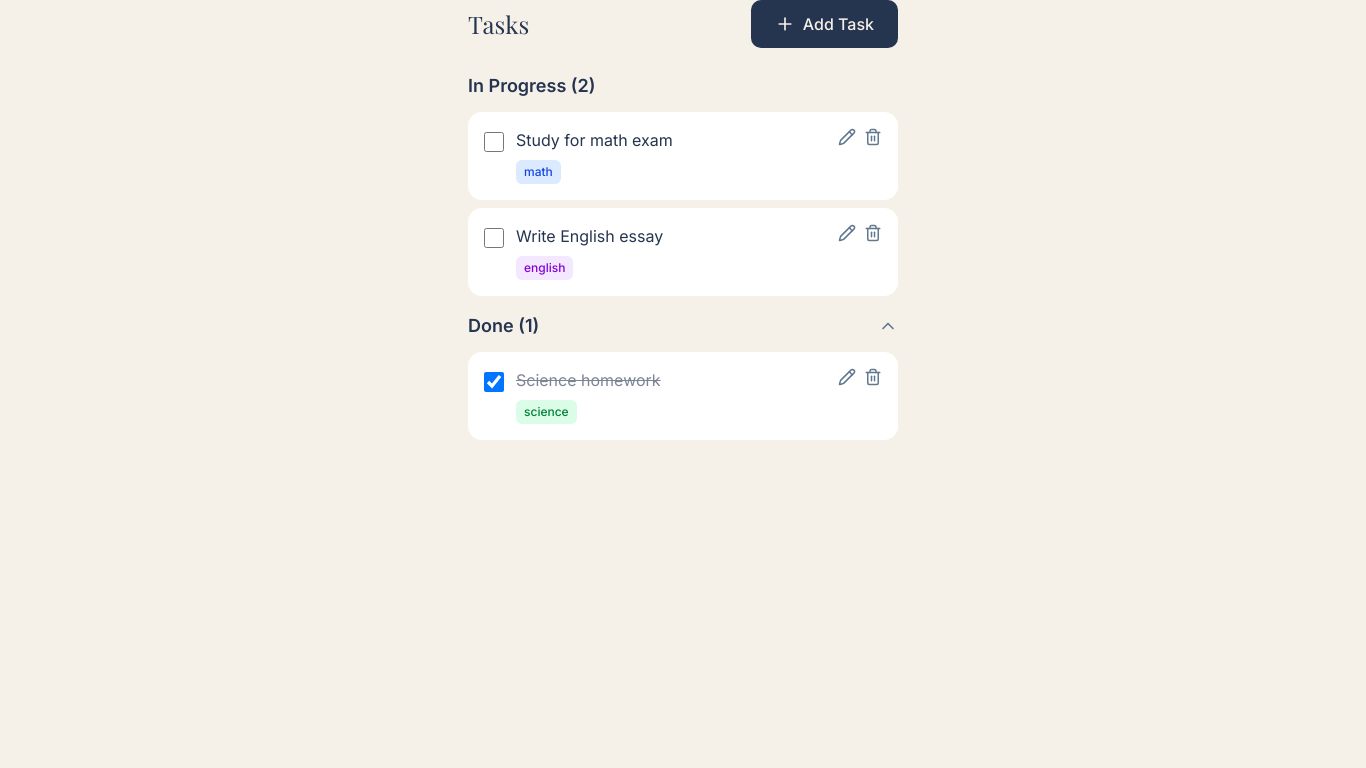
Test: TodoClient › 32.1 Test todo creation › should validate required fields
// Open modal
Click the button "Add Task" at (824, 24), box [751,0,898,48]
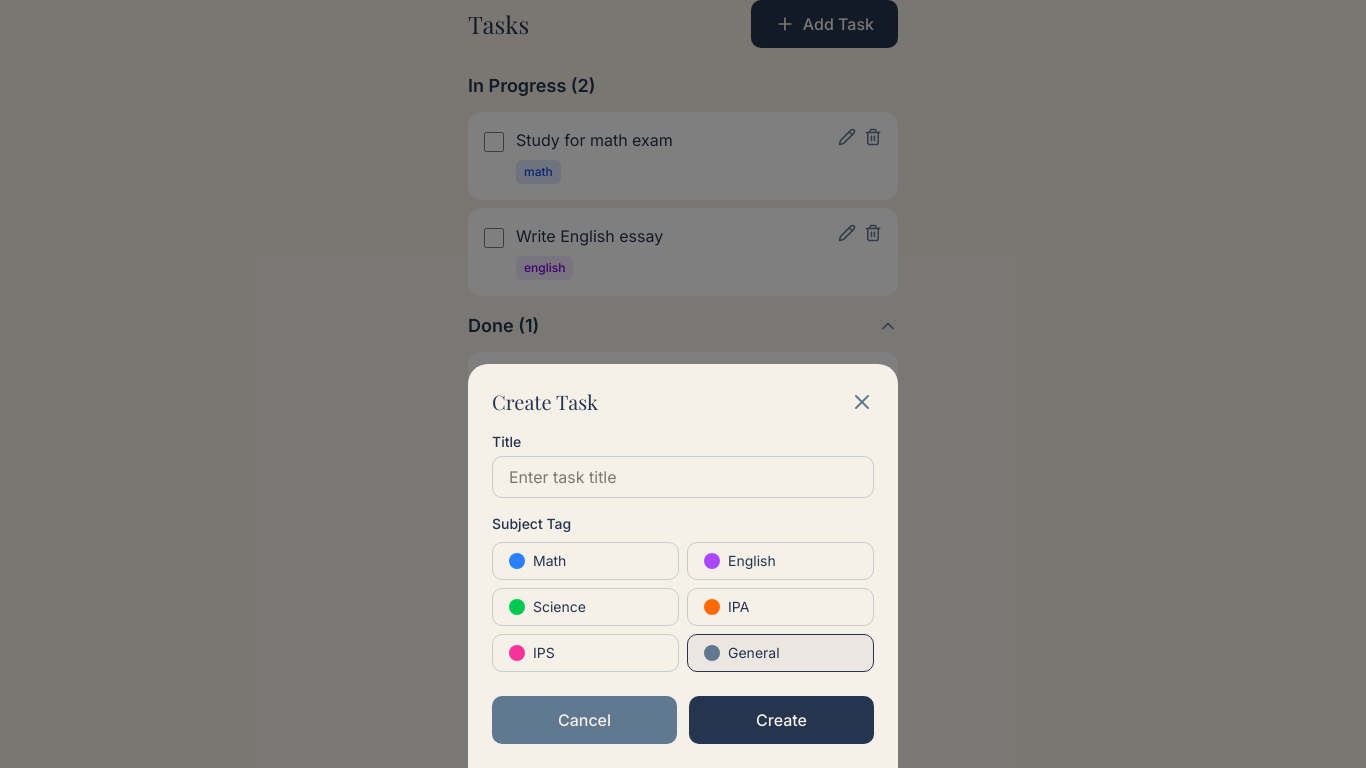
// Try to submit without filling title
Click the button "Create" at (782, 720), box [689,696,874,744]
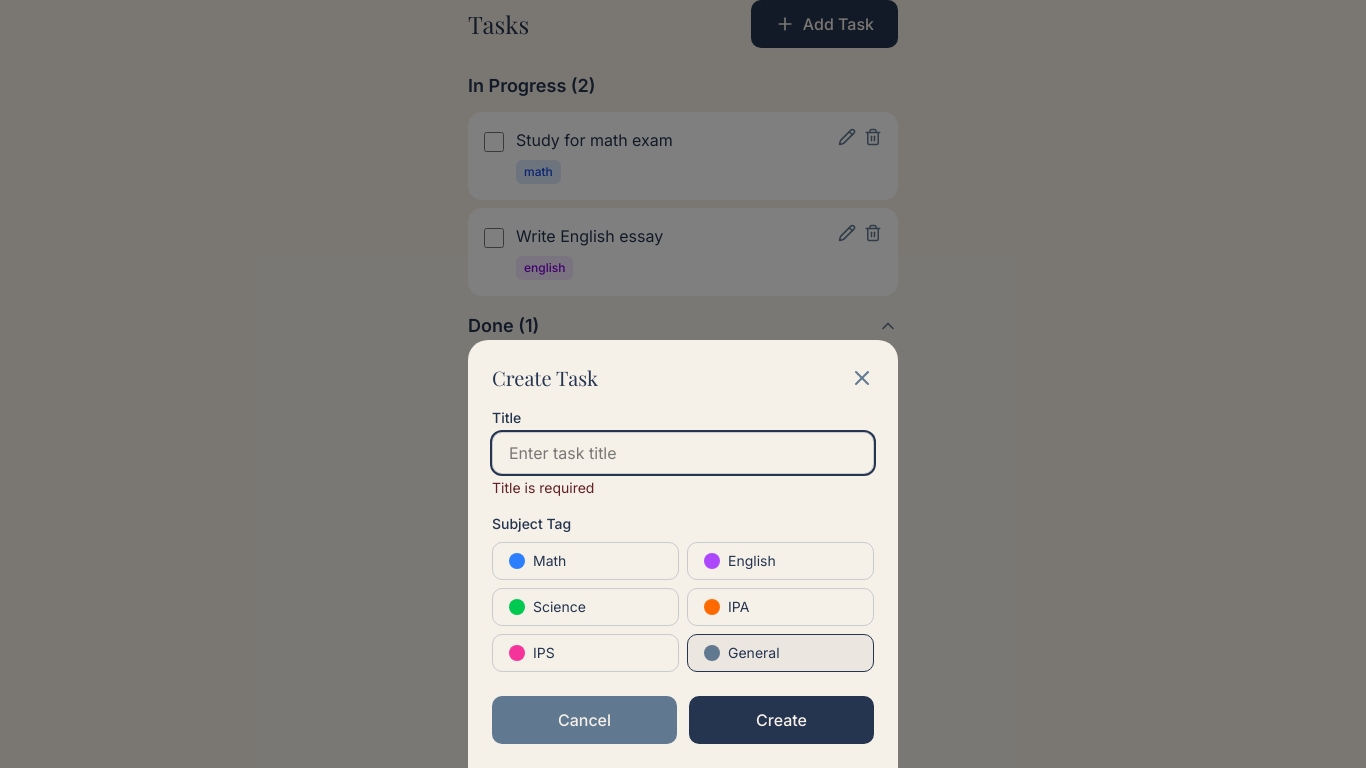
Expected: the text "Title is required" is shown, [492,479,594,496]
